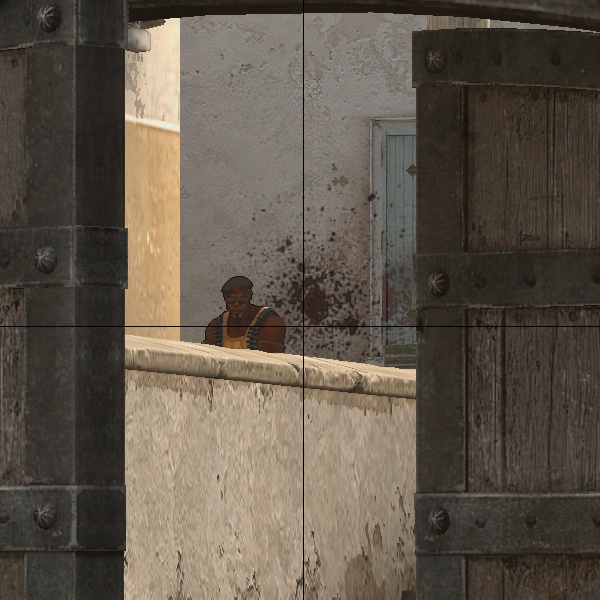t_body: (202, 275, 285, 351)
t_head: (221, 274, 257, 321)
